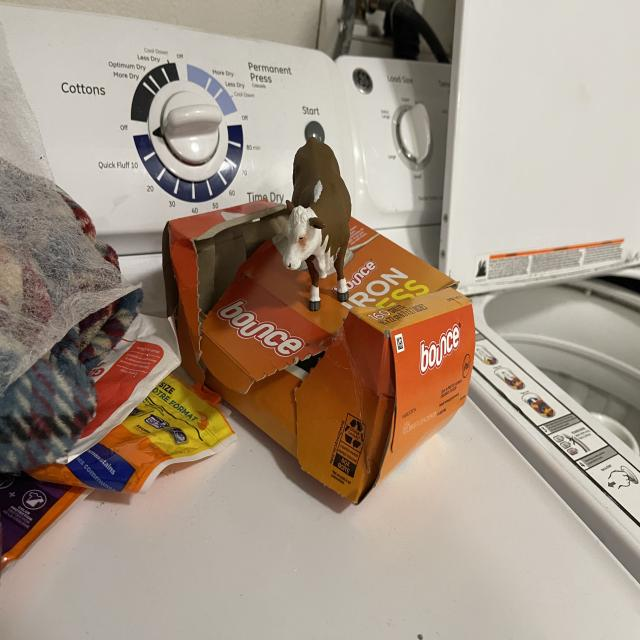cow: (277, 135, 354, 312)
